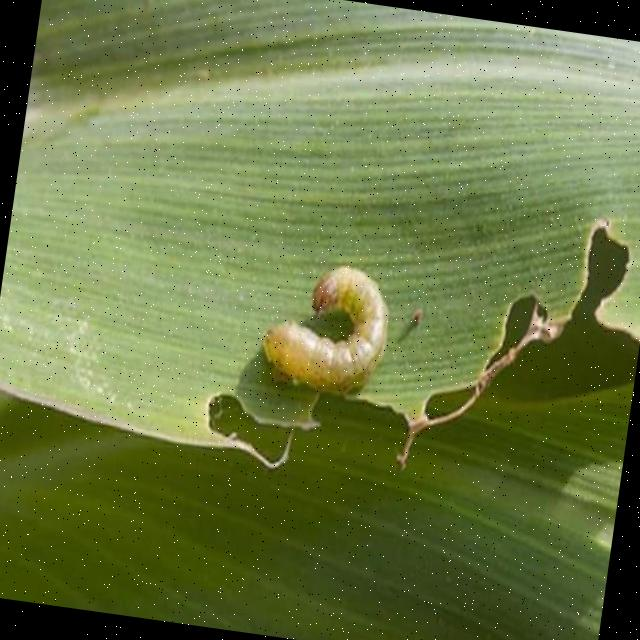worm: (257, 257, 399, 405)
